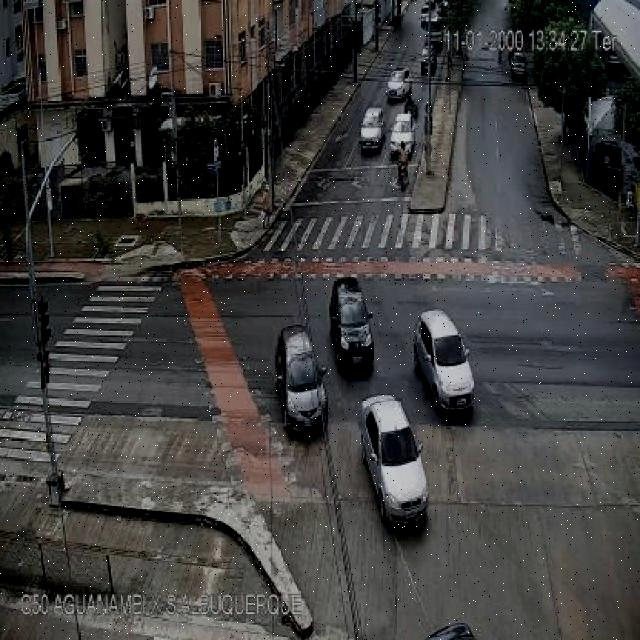Car: (365, 393, 428, 527), (275, 326, 329, 438), (328, 269, 380, 385), (355, 105, 382, 156), (394, 110, 413, 151), (390, 63, 407, 100)
Van: (412, 314, 482, 425)
